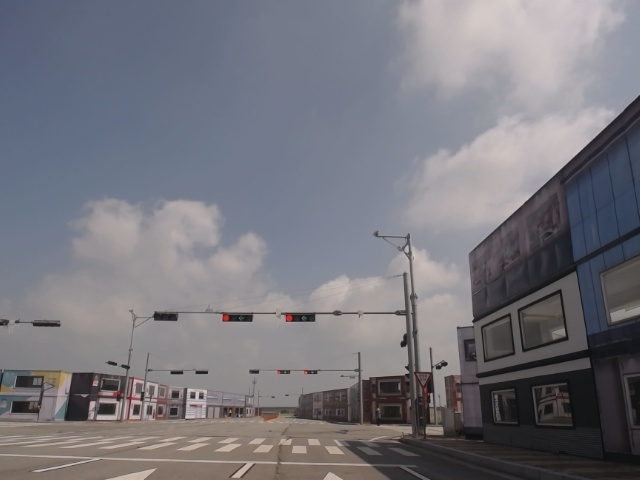left_green_4: (222, 314, 254, 322), (285, 314, 316, 322)
